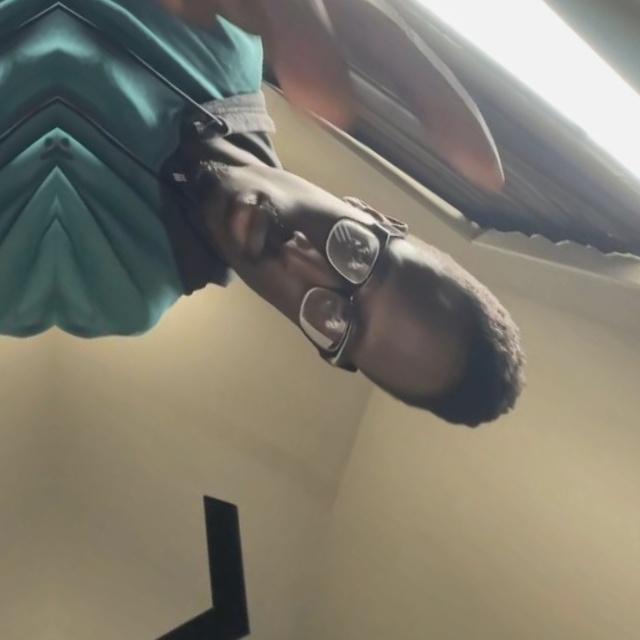Scissors: (129, 0, 556, 241)
